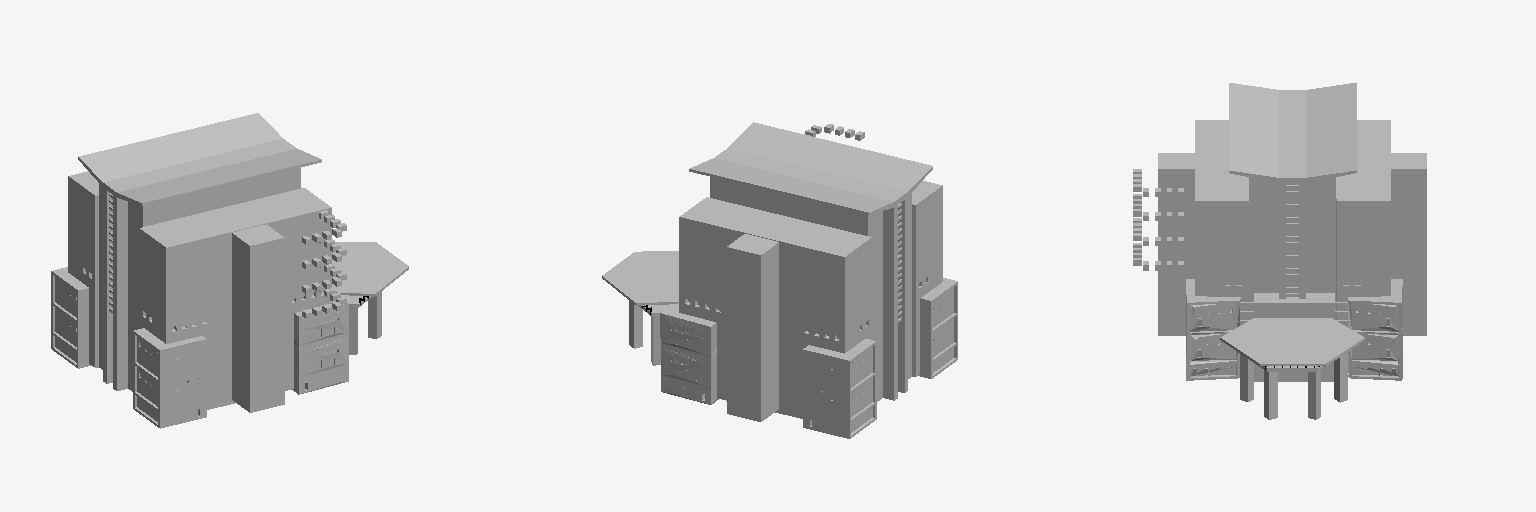
File: library_v3_object.obj
3 renders of one model, left to right at view 1: azimuth 30°, elevation 25°; view 2: azimuth 150°, elevation 25°; view 3: azimuth 270°, elevation 25°, orthographic.
Parts seen in each view (by area): view 1: central_cube.000_Cube.006, cutter_large_y_Cube.008, cutter_large_Cube.007; view 2: central_cube.000_Cube.006; view 3: central_cube.000_Cube.006, cutter_large_Cube.007, cutter_large_y_Cube.008.
Part boxes in pixels (bbox=[...]): central_cube.000_Cube.006: bbox=[51, 113, 408, 428]; cutter_large_y_Cube.008: bbox=[302, 228, 341, 318]; cutter_large_Cube.007: bbox=[319, 210, 346, 304]; central_cube.000_Cube.006: bbox=[602, 122, 957, 438]; central_cube.000_Cube.006: bbox=[1158, 83, 1426, 419]; cutter_large_Cube.007: bbox=[1143, 188, 1183, 270]; cutter_large_y_Cube.008: bbox=[1133, 169, 1141, 265].
Size of the model in its own units: 134 by 94.25 by 119.